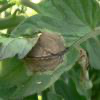Tomato leaf late blight: (1, 4, 97, 98)
